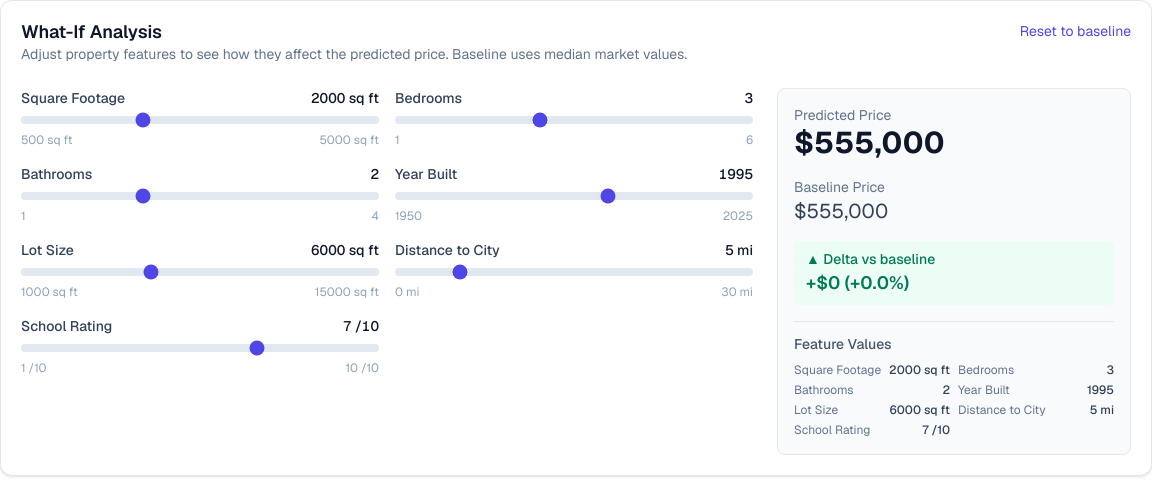
WhatIfTool › reset › returns to exact default values after reset
The width and height of the screenshot is (1152, 494).
Set the slider named "square footage slider" to "500" at (29,120), box left=21, top=116, right=379, bottom=124
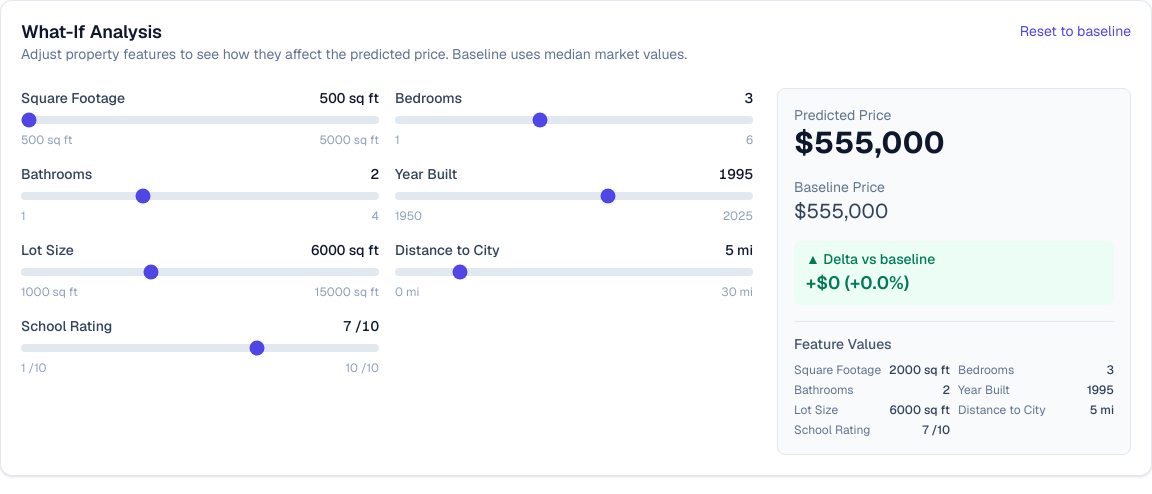
Click the button "Reset to baseline" at (1075,31), box left=1020, top=21, right=1131, bottom=41
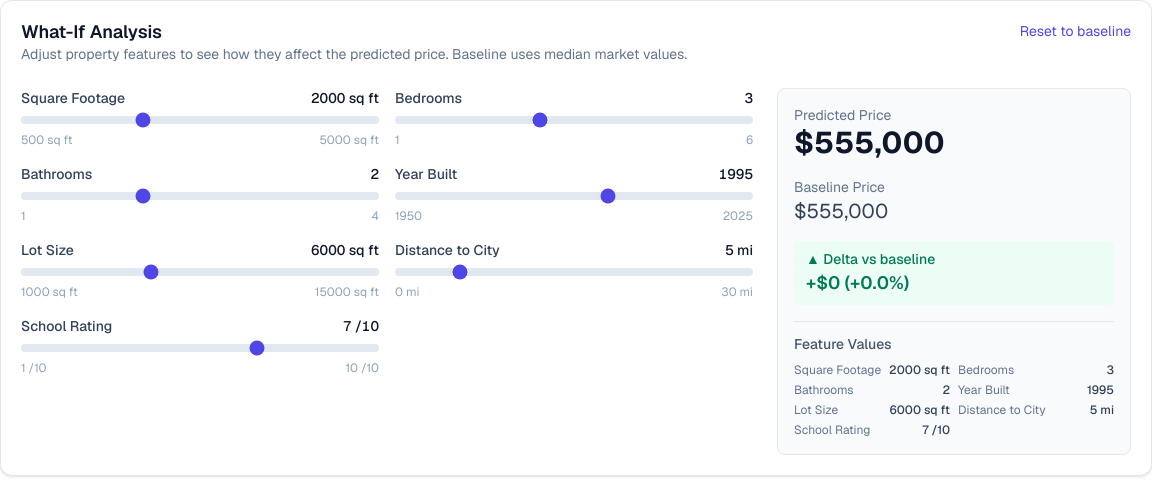
Now the slider named "square footage slider" holds "2000", box left=21, top=116, right=379, bottom=124
